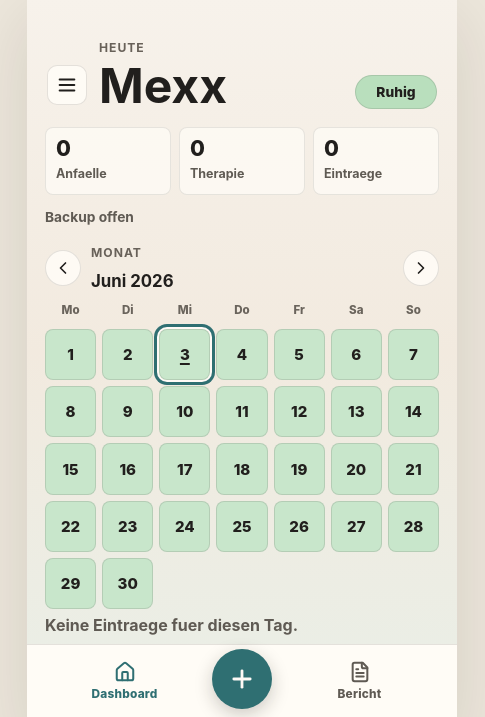
Scenario: App accessibility smoke › reaches the reports screen with the disclaimer visible
The image size is (485, 717).
Expected: the heading "Mexx" is shown, x1=99 y1=62 x2=227 y2=109
Click the button "Bericht" at (360, 681), box x1=280 y1=653 x2=439 y2=709
(page scrolled)
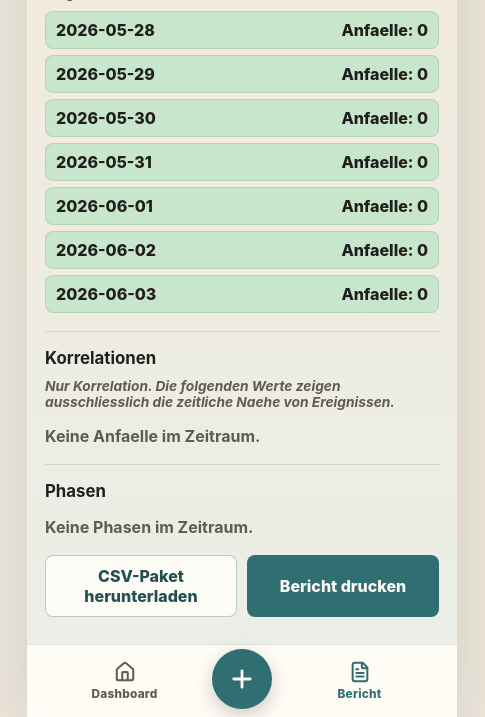
Now the text "Nur Korrelation" is shown, box x1=45 y1=378 x2=395 y2=410
